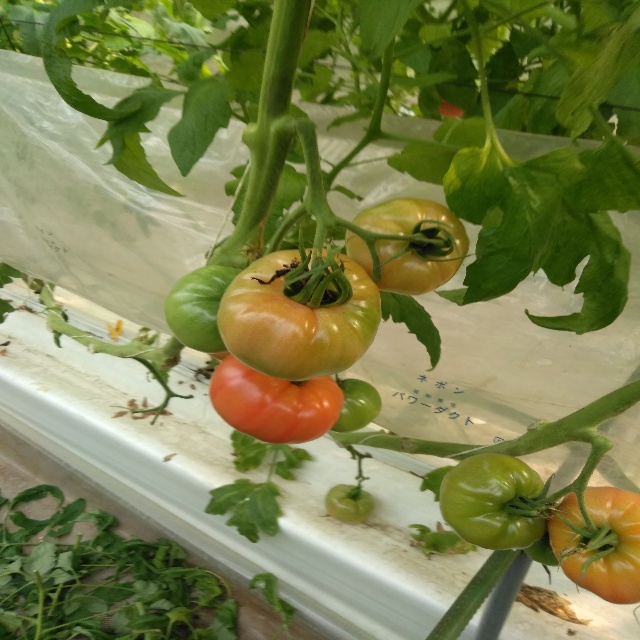b_fully_ripened: (209, 353, 344, 445)
b_green: (440, 453, 549, 550), (164, 265, 243, 353), (328, 378, 383, 434), (325, 484, 373, 524), (523, 524, 559, 566)
b_half_ripened: (216, 248, 382, 380), (344, 198, 470, 296), (547, 485, 639, 604)
